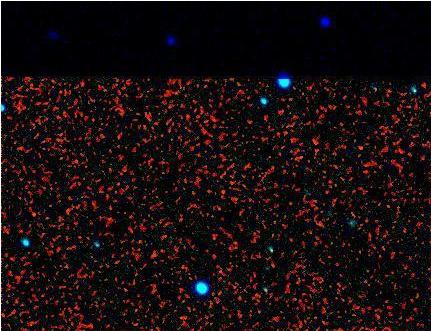star: (89, 248, 119, 278)
